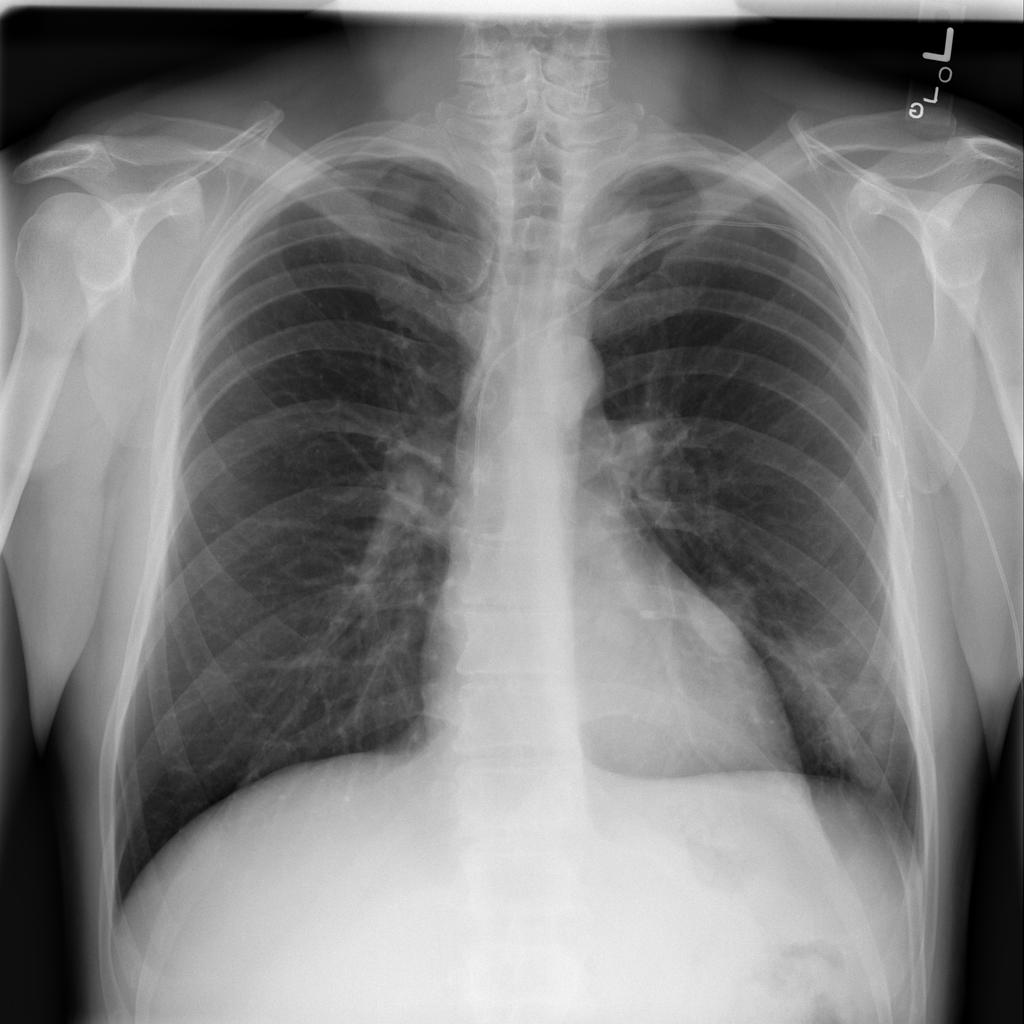nodule: (673, 556, 778, 667), (580, 590, 644, 669)
